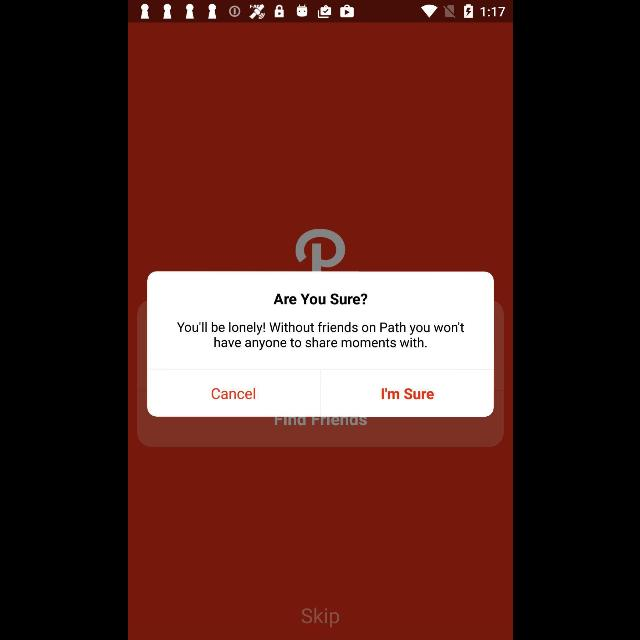panel: (146, 272, 494, 416)
text: (176, 322, 464, 351), (273, 293, 367, 305)
textbutton: (146, 369, 320, 416), (321, 369, 494, 416)
uppertaskbar: (128, 1, 512, 23)
